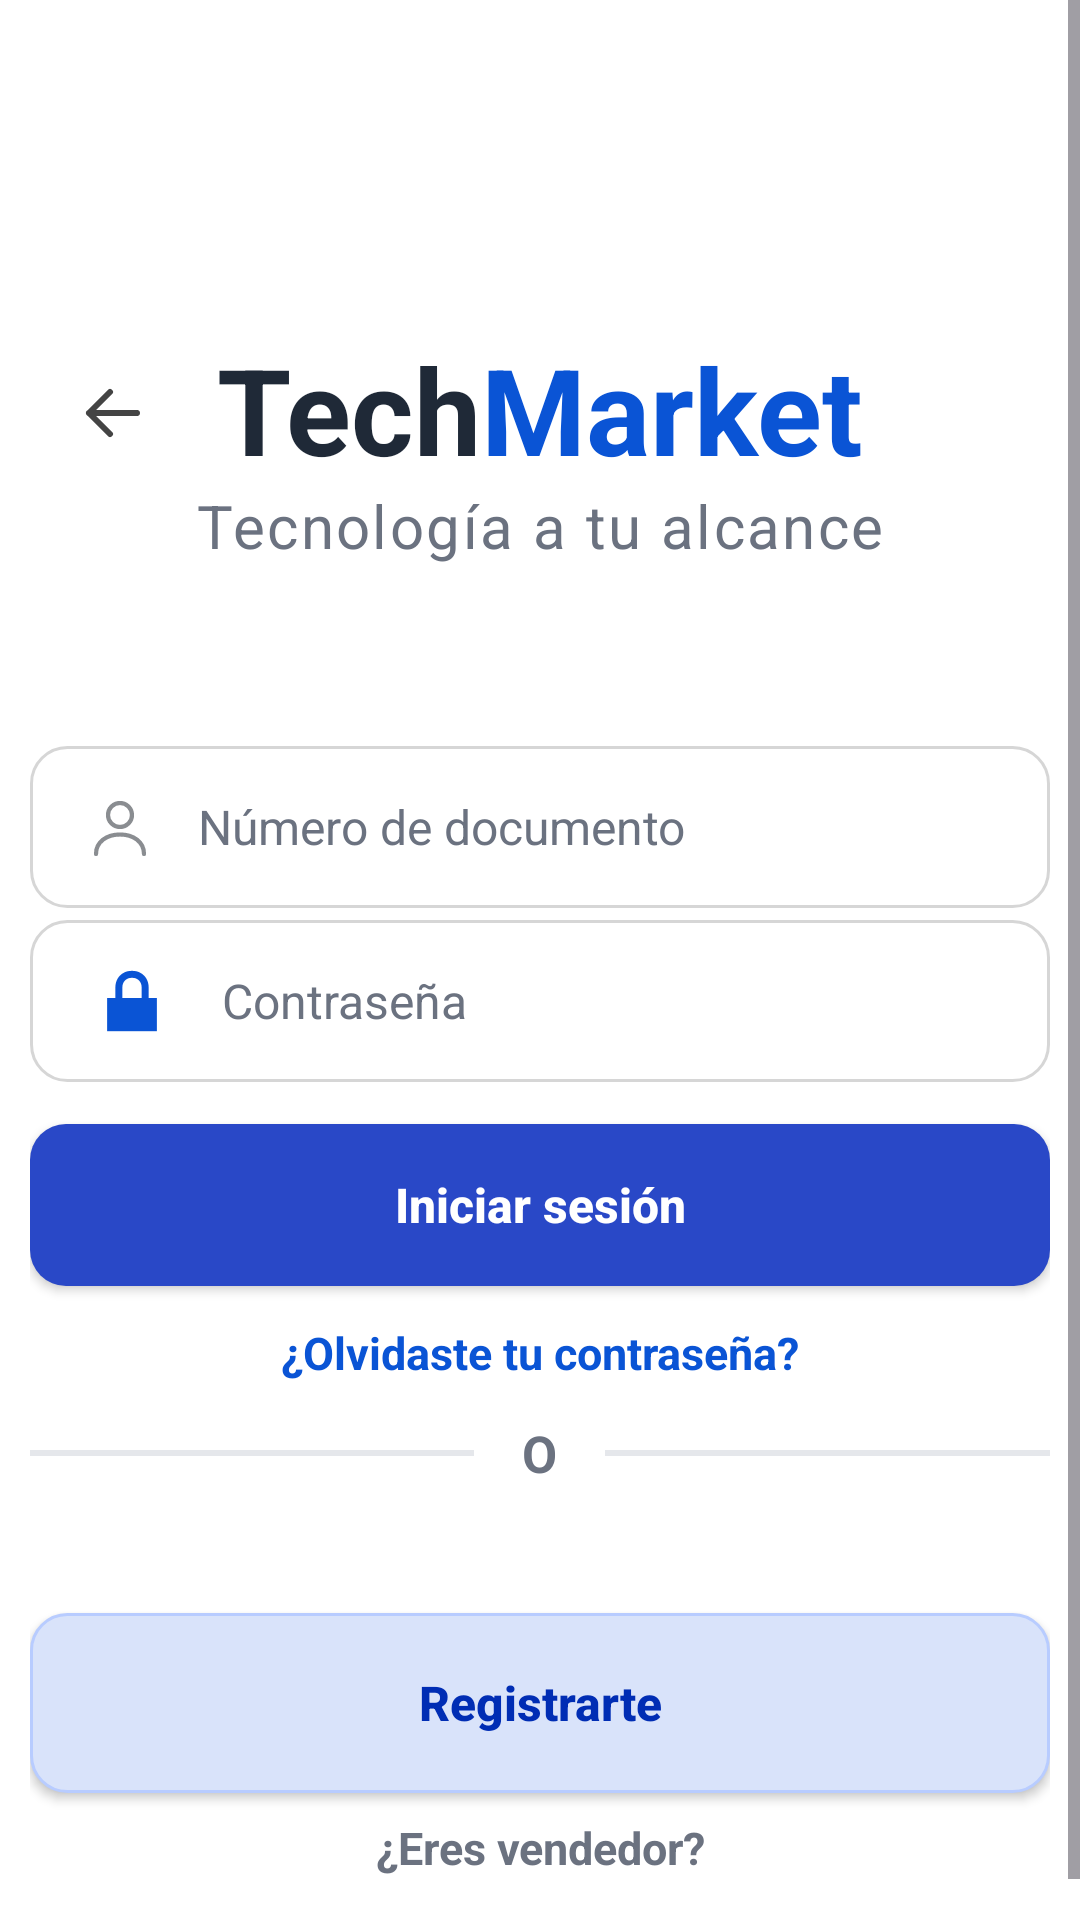

Screen size 1080w x 1920h. Icon name, then its box in pixels as (x1=x1, y1=y1, x2=x2, y2=y2):
Volver al inicio: (x1=86, y1=389, x2=140, y2=437)
